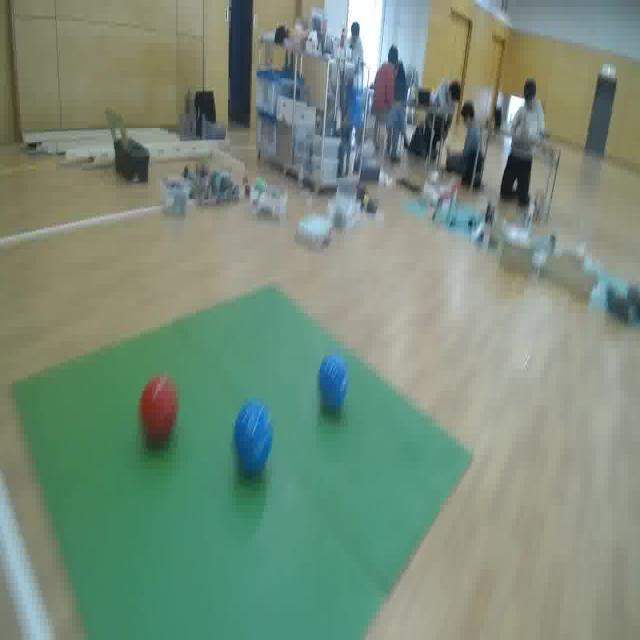blue_ball: (229, 401, 275, 478), (318, 356, 348, 414)
red_ball: (135, 375, 182, 451)
